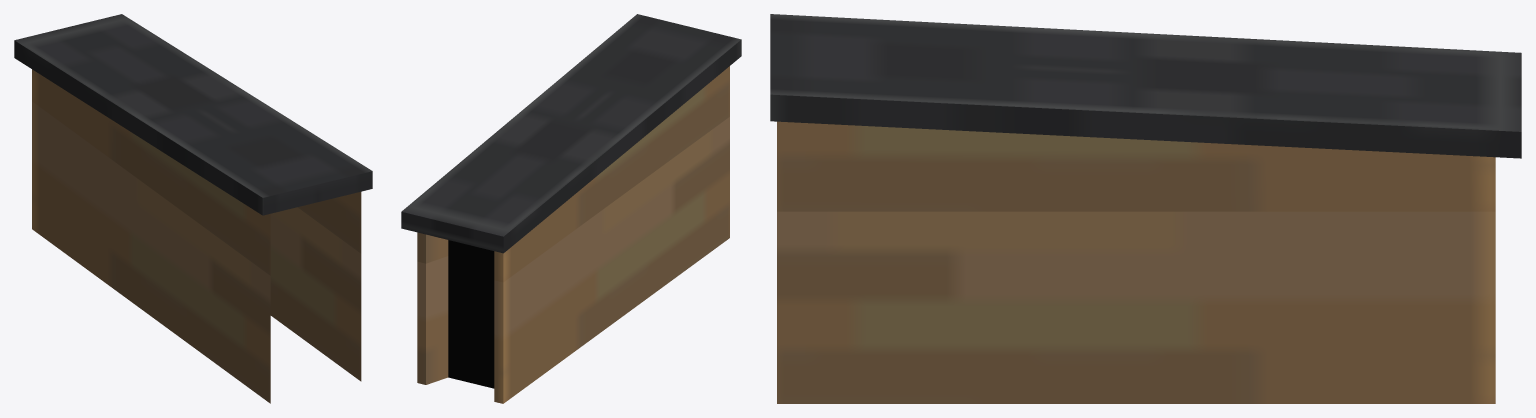
Rendered from roof_window_v4b001.fbx.
The picture shows the model from 3 angles, left to right: view 1: azimuth 30°, elevation 25°; view 2: azimuth 150°, elevation 25°; view 3: azimuth 270°, elevation 25°; orthographic projection. The views are drawn at different scales.
Visible parts, largest first — view 1: roof_window_v4b001; view 2: roof_window_v4b001; view 3: roof_window_v4b001.
Boxes of the visible parts, bbox=[...] form: roof_window_v4b001: bbox=[14, 14, 372, 403]; roof_window_v4b001: bbox=[401, 14, 741, 403]; roof_window_v4b001: bbox=[770, 14, 1521, 403].
Size of the model in its own units: 89.92 by 164 by 354.
